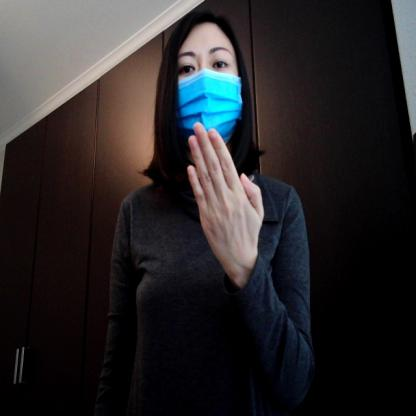thanks: (184, 120, 266, 270)
